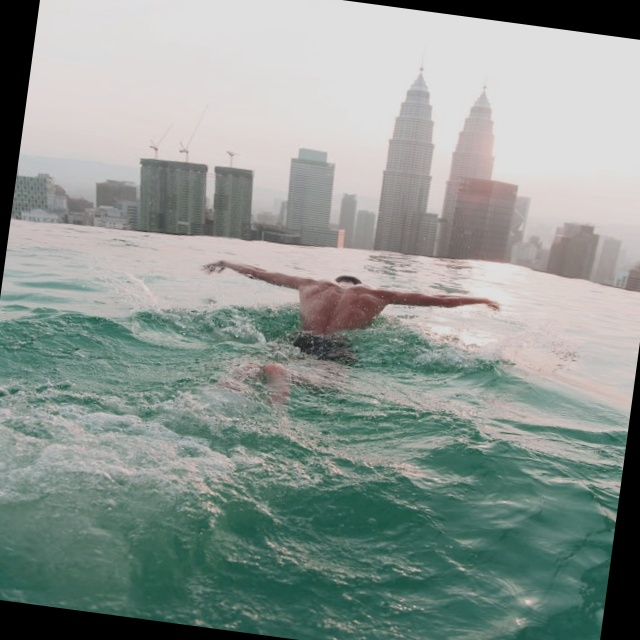algae_bloom: (0, 389, 531, 640)
foam_scum: (19, 0, 640, 268), (0, 220, 640, 464), (31, 384, 236, 495)
turbid_water: (13, 13, 627, 627), (0, 280, 628, 528)
